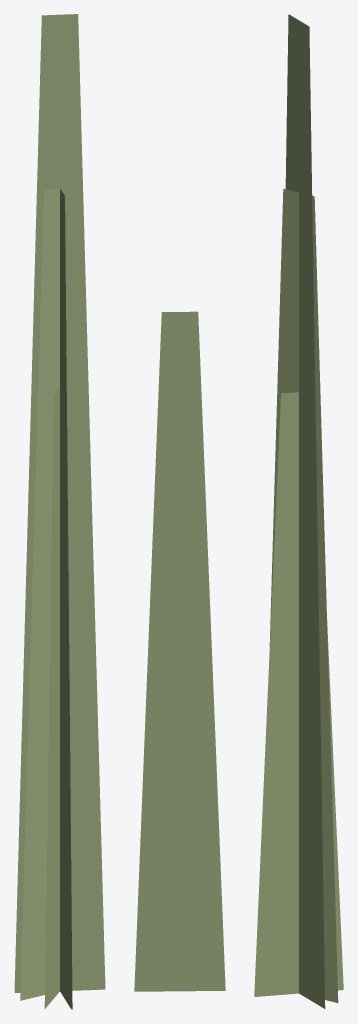
File: rough_tuft_v1_far.gltf
3 renders of one model, left to right at view 1: azimuth 30°, elevation 25°; view 2: azimuth 210°, elevation 25°; view 3: azimuth 330°, elevation 25°, orthographic.
Visible parts, largest first — view 1: cover; view 2: cover; view 3: cover.
Boxes of the visible parts, x1,y1,x2,y2 form: cover: (14, 14, 105, 1009); cover: (134, 311, 225, 991); cover: (254, 14, 343, 1008).
Bounding box in the file's own units: 0.05 × 0.5897 × 0.0485.
